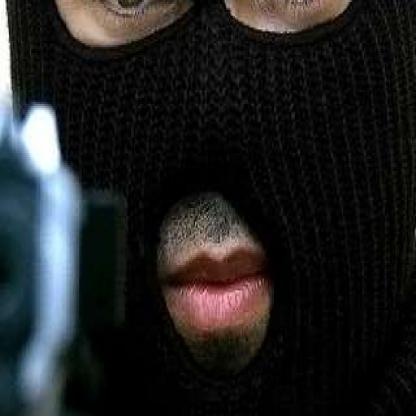gun: (0, 80, 102, 414)
